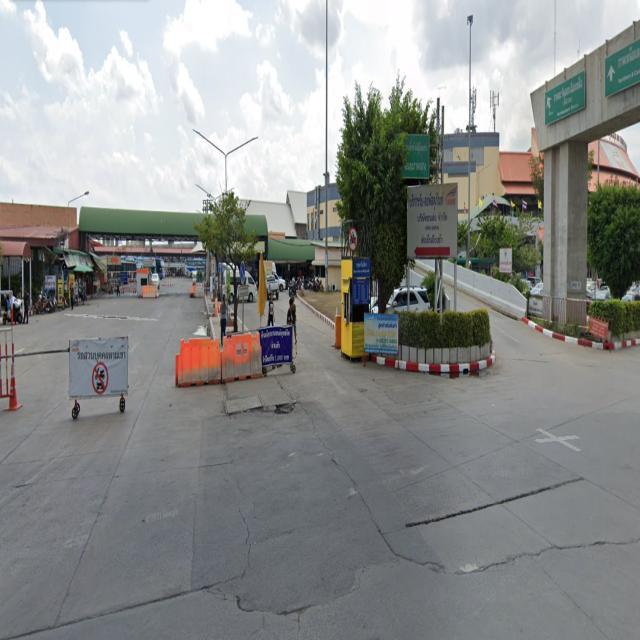fallen_object: (50, 323, 148, 423), (152, 330, 281, 392), (0, 326, 29, 424)
